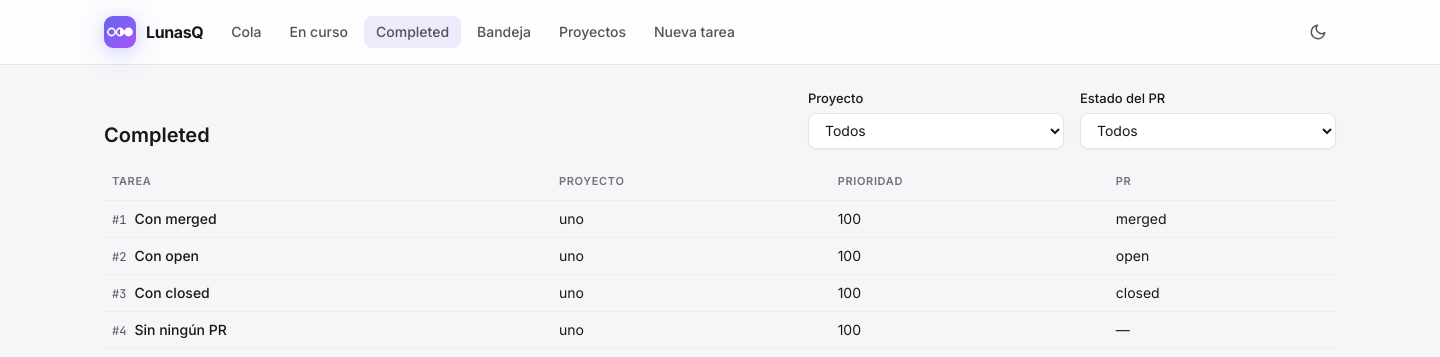
Scenario: pestaña Completed › filtro Estado del PR › volver a Todos muestra de nuevo todas las tareas completadas
Expected: the link "Con merged" is shown, left=134, top=209, right=217, bottom=229
Select "closed" in the dropdown labelled "Estado del PR" at (1208, 130), box left=1080, top=112, right=1336, bottom=148
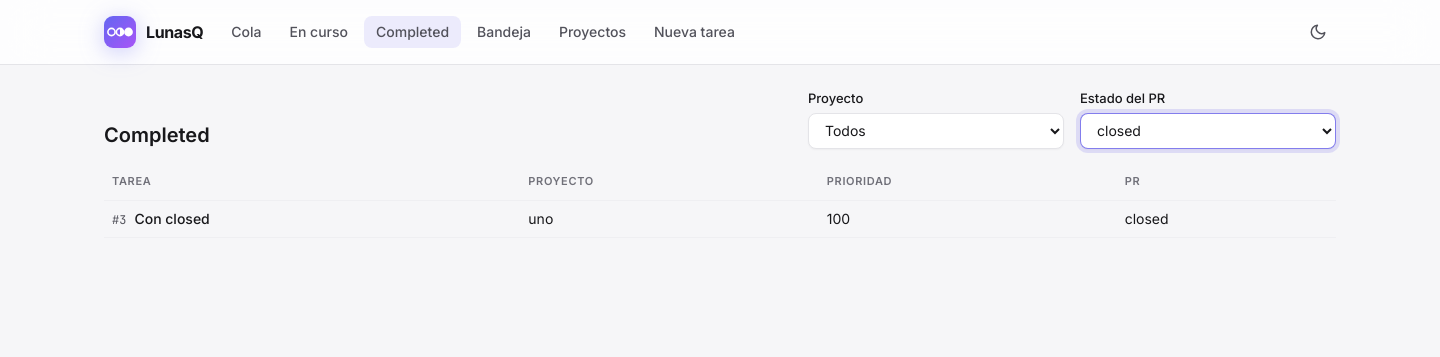
Now the link "Con merged" is gone
Select "Todos" in the dropdown labelled "Estado del PR" at (1208, 130), box left=1080, top=112, right=1336, bottom=148
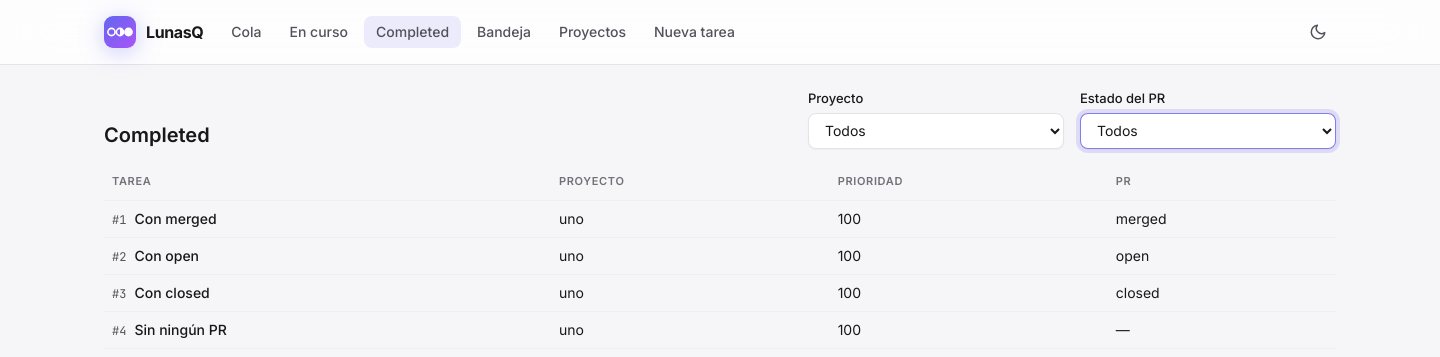
Now the link "Con merged" is shown, box left=134, top=209, right=217, bottom=229
Now the link "Con open" is shown, box left=134, top=246, right=199, bottom=266
Now the link "Sin ningún PR" is shown, box left=134, top=320, right=227, bottom=340
